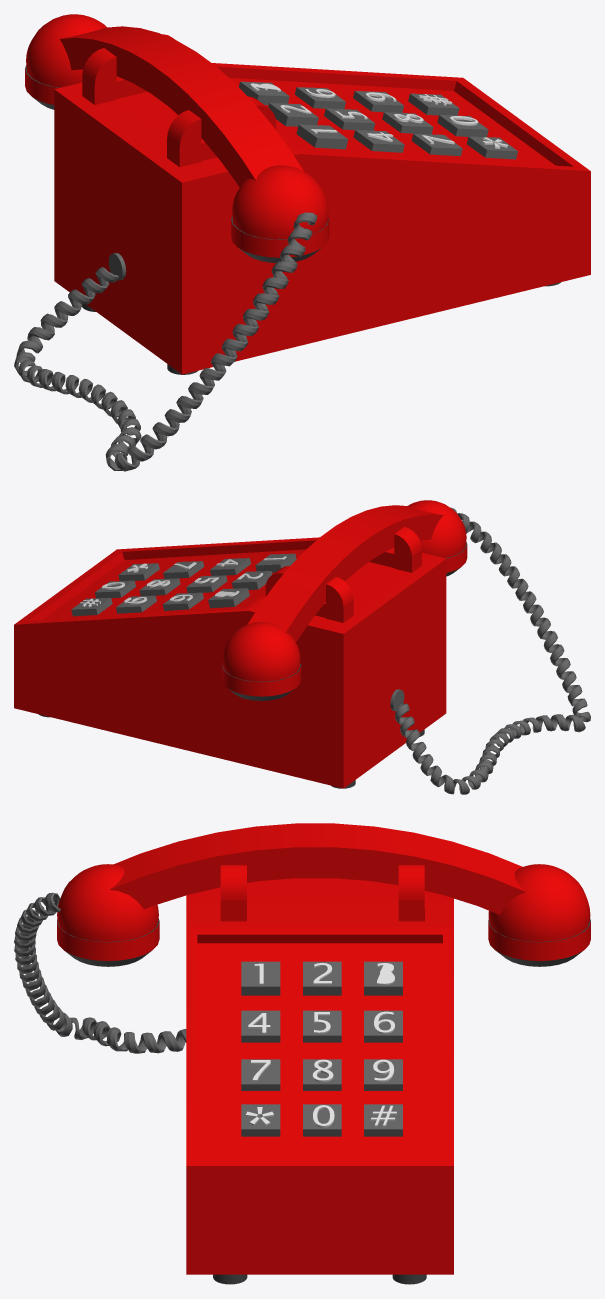
File: Telephone.fbx
The picture shows the model from 3 angles, top to bottom: view 1: azimuth 30°, elevation 25°; view 2: azimuth 150°, elevation 25°; view 3: azimuth 270°, elevation 25°; orthographic projection. The views are drawn at different scales.
Visible parts, largest first — view 1: typeMesh13; view 2: typeMesh13; view 3: typeMesh13.
Part boxes in pixels (<box>): typeMesh13: <box>14,14,590,471</box>; typeMesh13: <box>14,500,590,794</box>; typeMesh13: <box>14,823,590,1284</box>.
Bounding box in the file's own units: 12.53 × 6.3 × 11.24.
